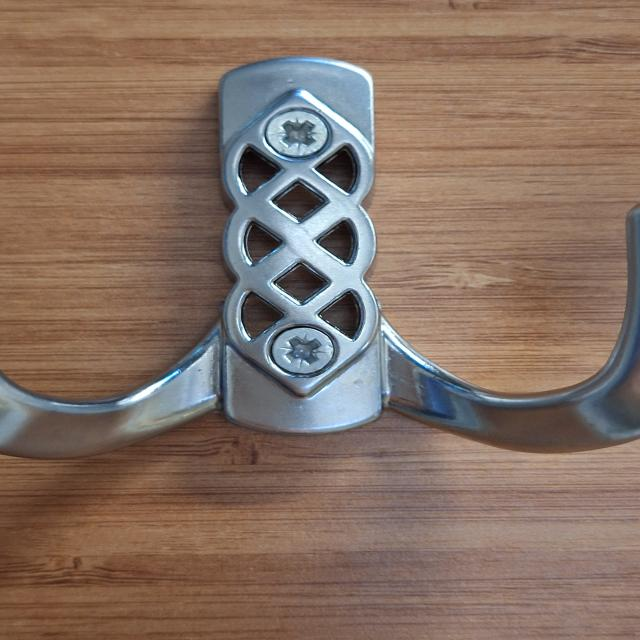Pozidriv: (269, 324, 343, 378), (264, 114, 330, 158)
